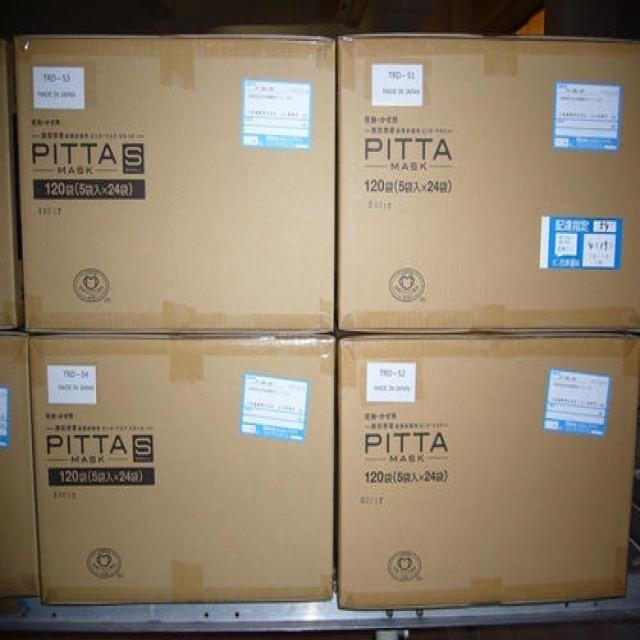box: (15, 36, 335, 335), (337, 36, 640, 335), (26, 335, 337, 606), (337, 335, 640, 609), (0, 331, 40, 599), (0, 41, 24, 329)
